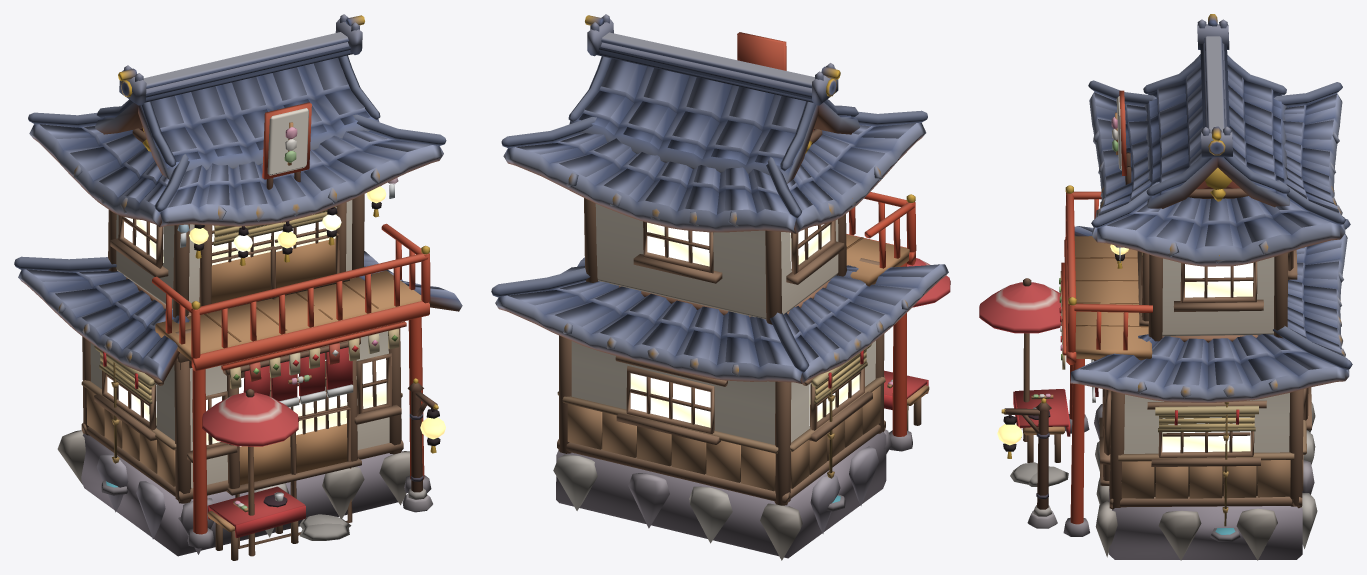
Rendered from shop-3-v0.glb.
3 renders of one model, left to right at view 1: azimuth 30°, elevation 25°; view 2: azimuth 150°, elevation 25°; view 3: azimuth 270°, elevation 25°, orthographic. The views are drawn at different scales.
Visible parts, largest first — view 1: shop, window_glow; view 2: shop, window_glow; view 3: shop, window_glow.
Part boxes in pixels (left/top/right/bottom): shop: left=14, top=14, right=462, bottom=560; window_glow: left=107, top=186, right=445, bottom=446; shop: left=491, top=14, right=950, bottom=560; window_glow: left=630, top=222, right=859, bottom=427; shop: left=979, top=14, right=1352, bottom=560; window_glow: left=997, top=244, right=1253, bottom=452.
Bounding box in the file's own units: 3.56 × 4.98 × 3.82.
